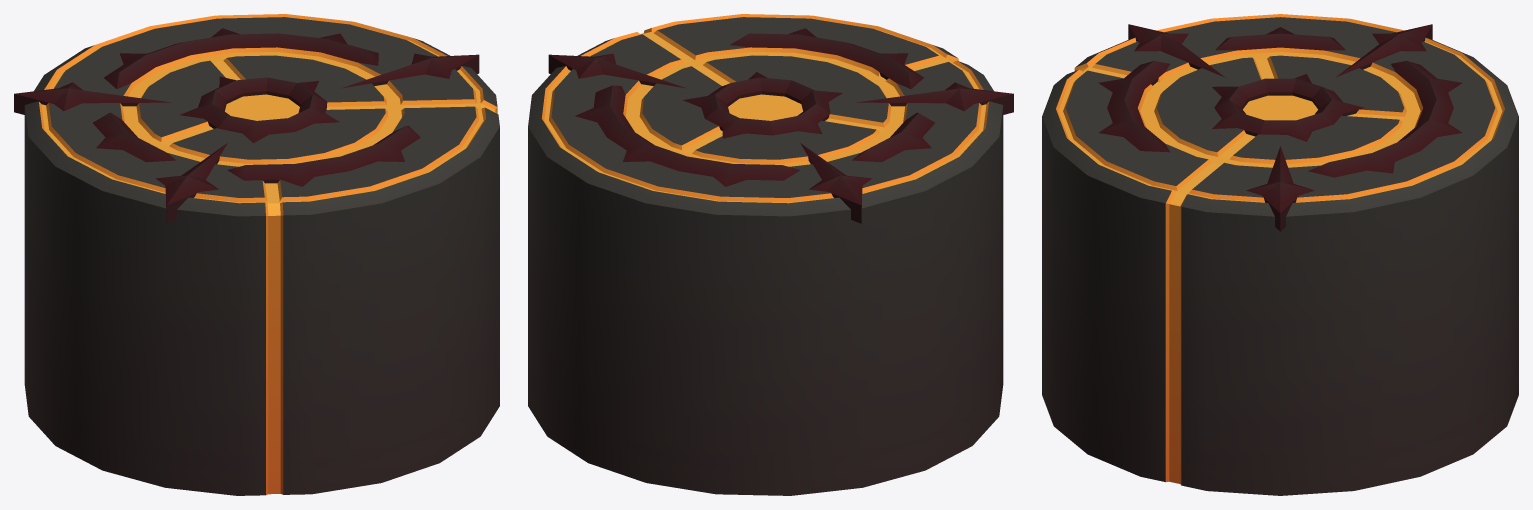
The model's file is SM_JumpPad.fbx.
3 renders of one model, left to right at view 1: azimuth 30°, elevation 25°; view 2: azimuth 150°, elevation 25°; view 3: azimuth 270°, elevation 25°, orthographic.
Visible parts, largest first — view 1: SM_JumpPad; view 2: SM_JumpPad; view 3: SM_JumpPad.
Part boxes in pixels (x1,y1,x2,y2): SM_JumpPad: (14,14,499,495); SM_JumpPad: (528,14,1013,495); SM_JumpPad: (1042,14,1518,495).
Size of the model in its own units: 344 by 230 by 336.
1 material, 1 textured.
